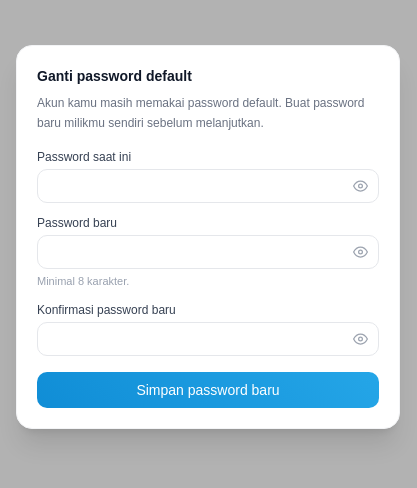
ChangePasswordModal › menolak submit jika konfirmasi password tidak cocok
The image size is (417, 488).
Step 1. Type "default123" into the password field with id "change-pw-current" → (208, 186), box x1=37 y1=169 x2=379 y2=203
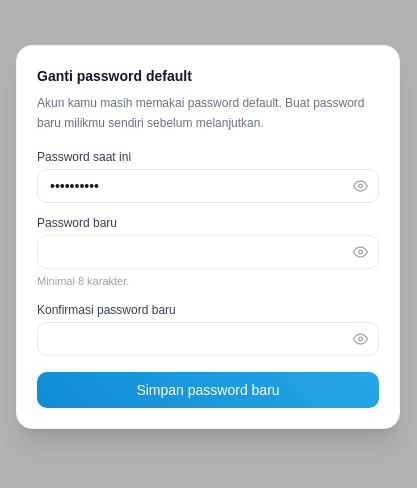
Step 2. Type "PasswordBaru1!" into the password field with id "change-pw-new" → (208, 252), box x1=37 y1=235 x2=379 y2=269
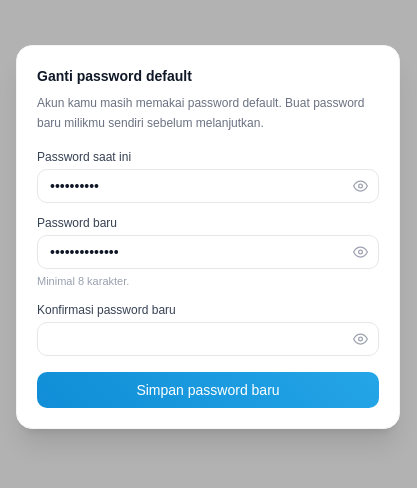
Step 3. Type "BedaPassword!" into the password field with id "change-pw-confirm" → (208, 339), box x1=37 y1=322 x2=379 y2=356
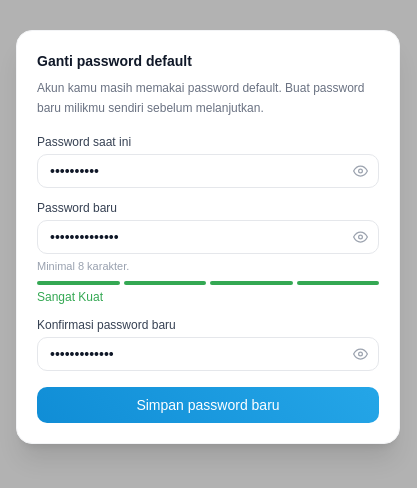
Step 4. Submit the form, box x1=37 y1=134 x2=379 y2=423
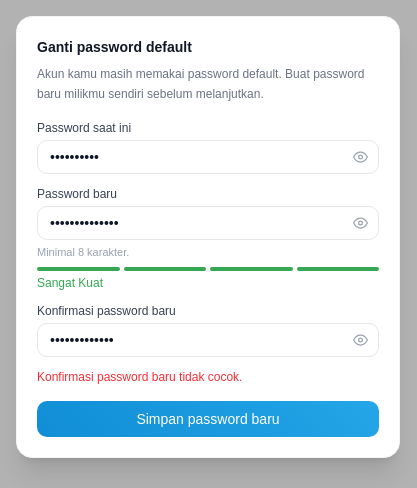
Expected: the text "Konfirmasi password baru tidak cocok." is shown, x1=37 y1=370 x2=242 y2=384
